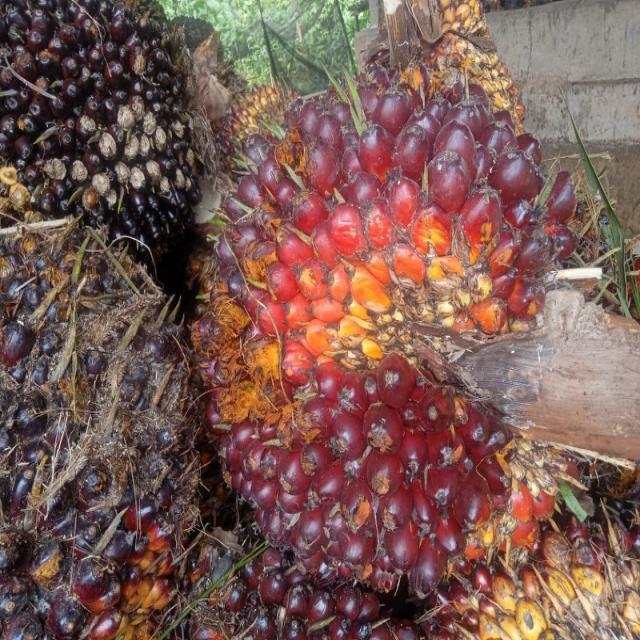fraksi 1: (165, 49, 596, 583)
